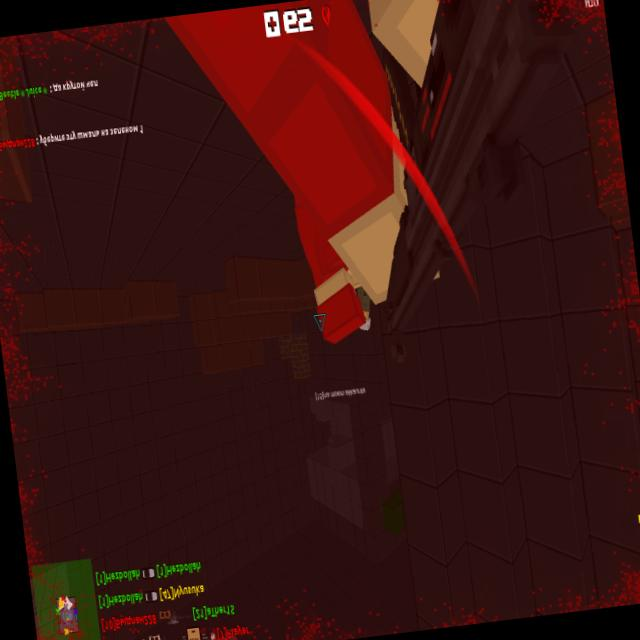enemy: (354, 282, 376, 333)
